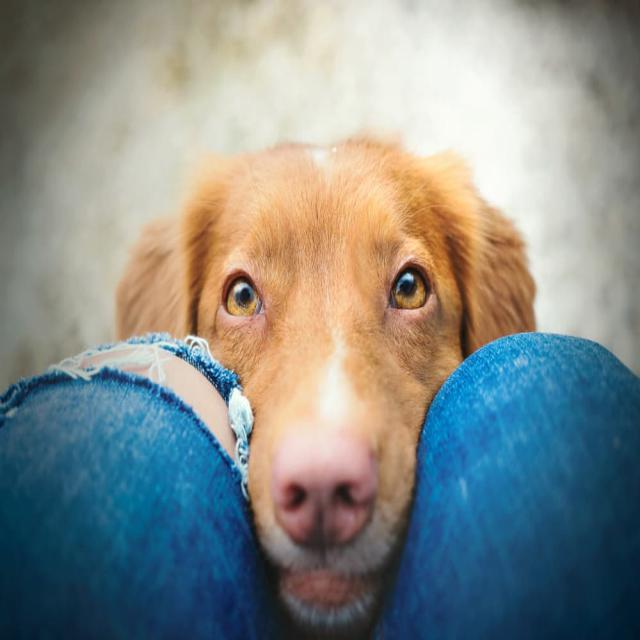eye: (386, 256, 436, 317), (219, 264, 269, 323)
